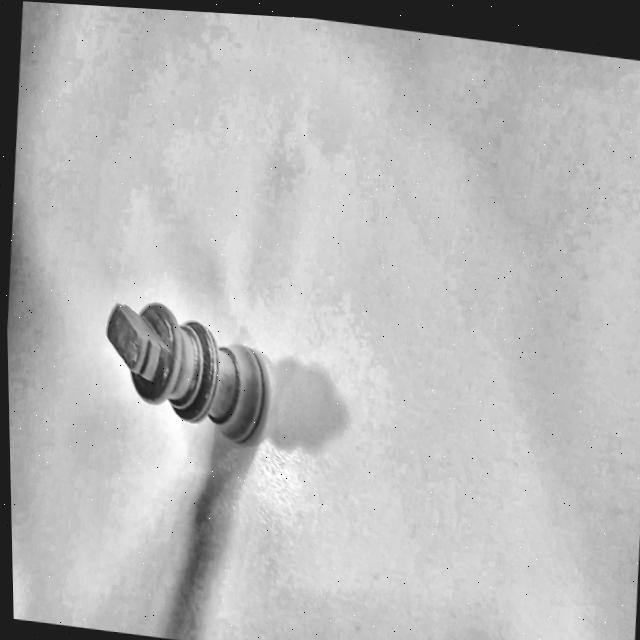black-king: (89, 279, 286, 470)
